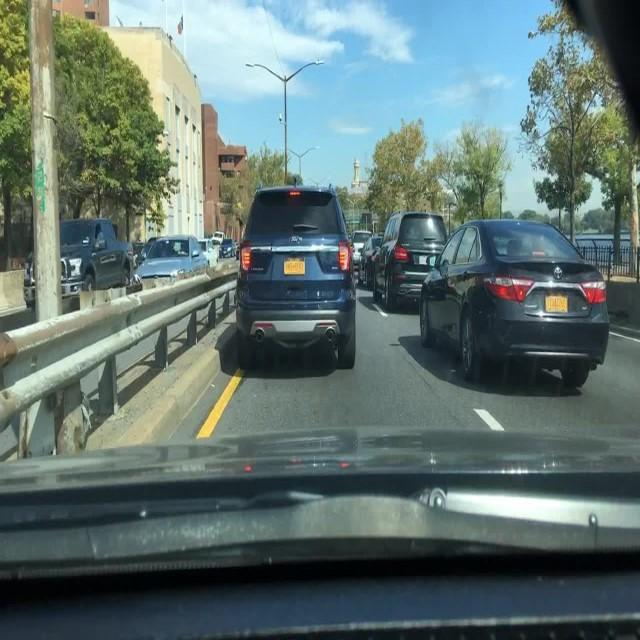normal: (192, 152, 625, 407)
